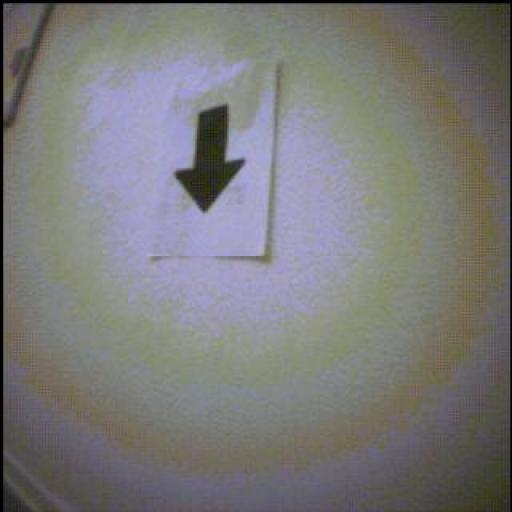Arrow: (177, 107, 246, 212)
